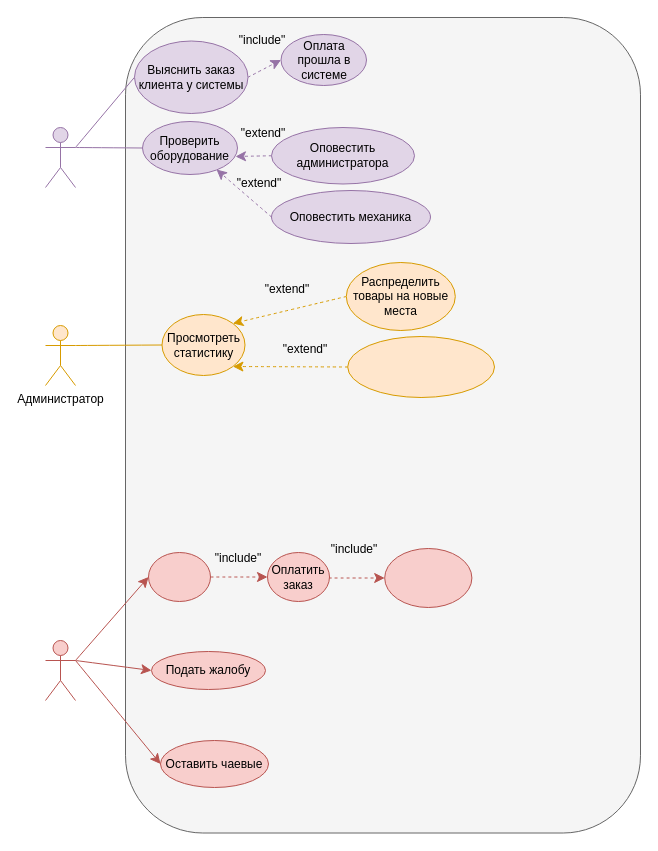
Image size: 658x851. Some labels were removed from this diagram. Each missing label, with the box of its shape:
Клиент: (44, 640, 76, 700)
Оператор: (44, 126, 76, 188)
Оставить отзыв: (384, 548, 472, 608)
Поручить системе рекламировать товар: (347, 336, 494, 398)
Сделать заказ: (148, 552, 210, 602)
